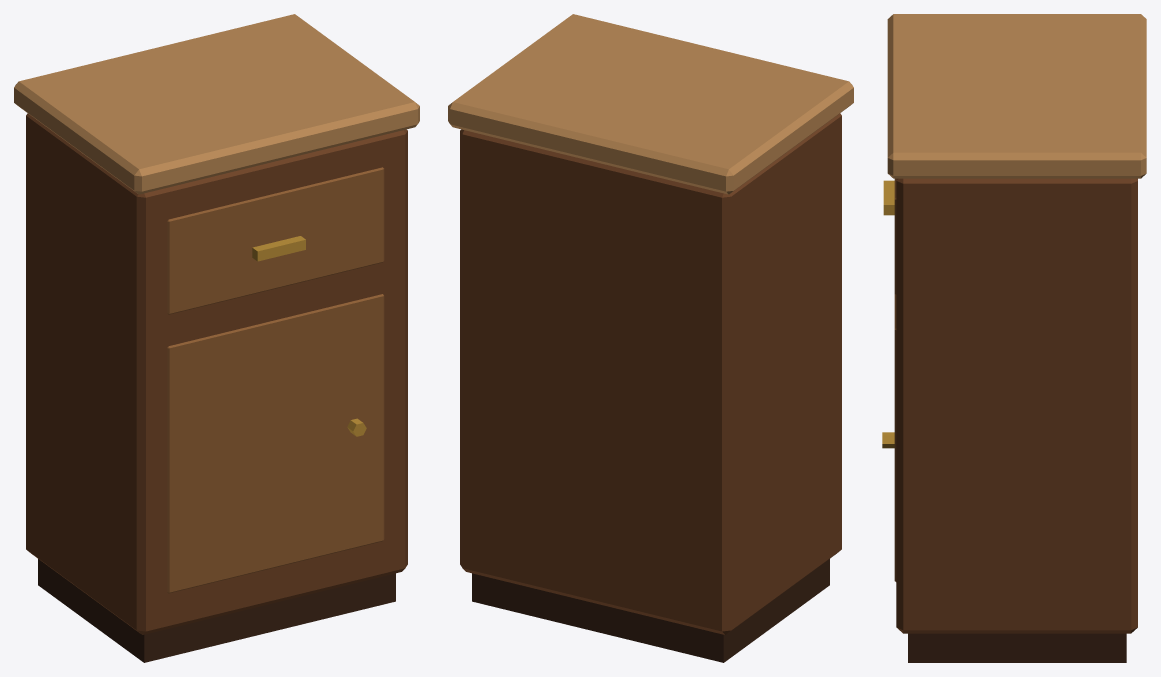
Rendered from bar_cabinet.glb.
3 views of the same model, side by side, from view 1: azimuth 30°, elevation 25°; view 2: azimuth 150°, elevation 25°; view 3: azimuth 270°, elevation 25° (orthographic). The views are drawn at different scales.
Visible parts, largest first — view 1: bar_cabinet; view 2: bar_cabinet; view 3: bar_cabinet.
Boxes of the visible parts, x1,y1,x2,y2 form: bar_cabinet: [14, 14, 419, 662]; bar_cabinet: [448, 14, 853, 662]; bar_cabinet: [882, 14, 1146, 662].
Bounding box in the file's own units: 0.59 × 0.99 × 0.4595.
